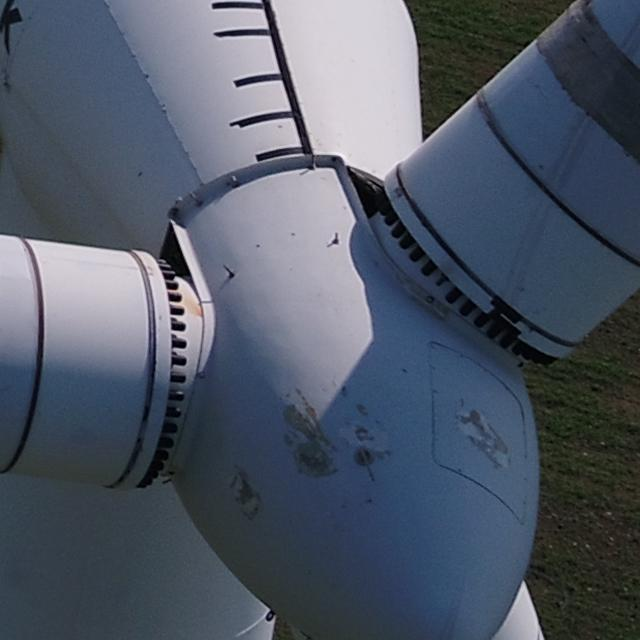damage: (277, 390, 336, 477), (462, 430, 511, 472), (453, 407, 485, 430), (234, 477, 256, 503), (352, 422, 376, 442), (239, 504, 257, 525), (336, 383, 349, 397)
